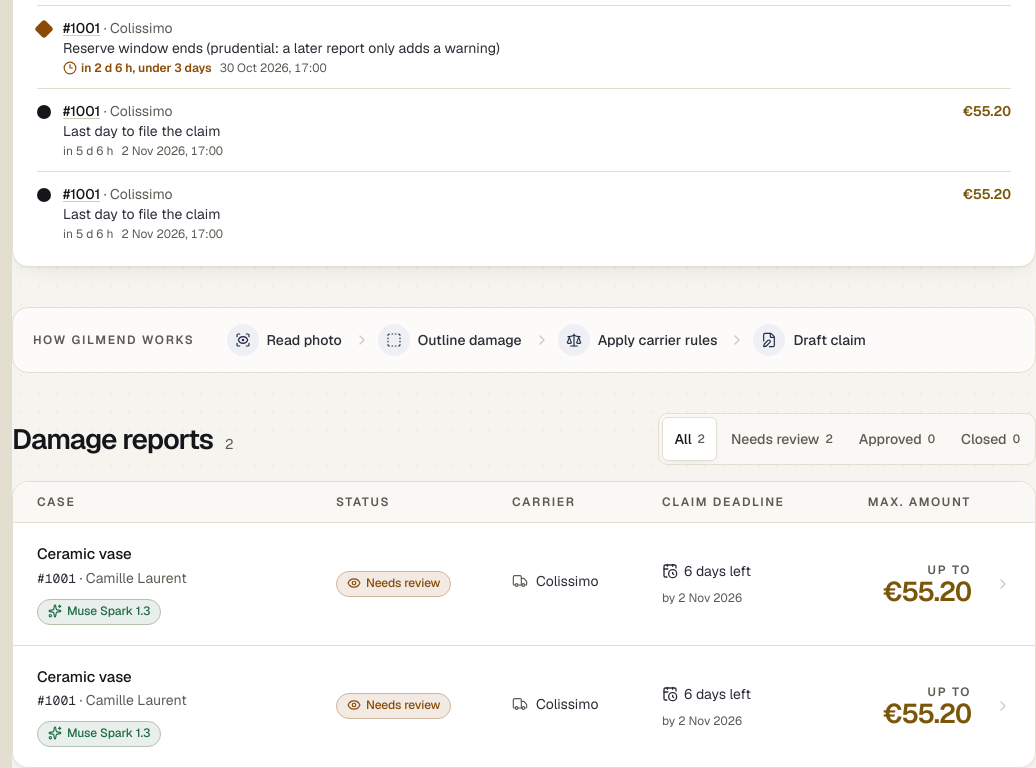
Scenario: Cases list: filter › says so when no case has the chosen status, and offers the whole list back
(page scrolled)
Click the button "Closed 0" at (990, 439), box [949,417,1032,461]
(page scrolled)
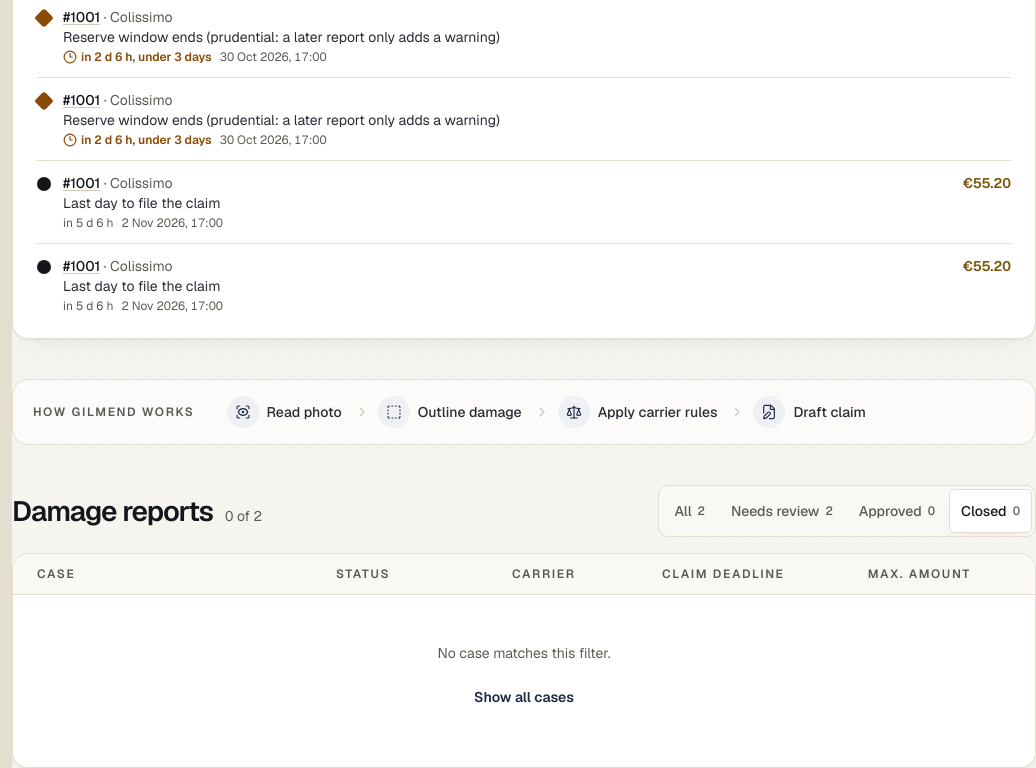
Now the text "No case matches this filter." is shown, box [438,644,610,662]
Click the button "Show all cases" at (524, 697), box [458,675,590,719]
(page scrolled)
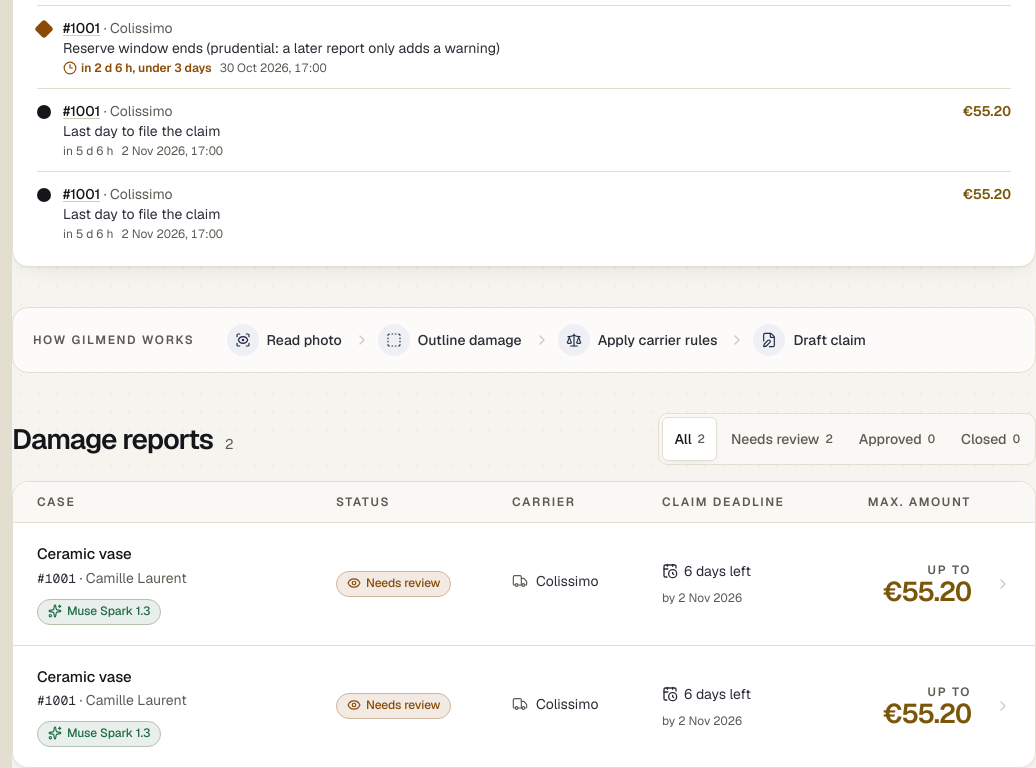
Now the list named "Cases" is shown, box [13,523,1035,766]
